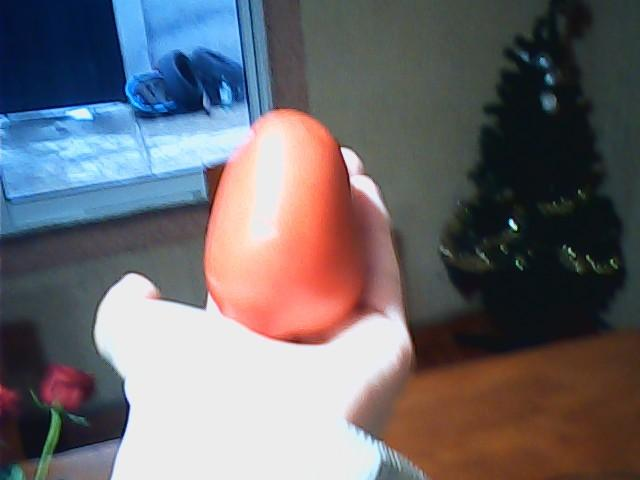maduro: (207, 112, 368, 343)
